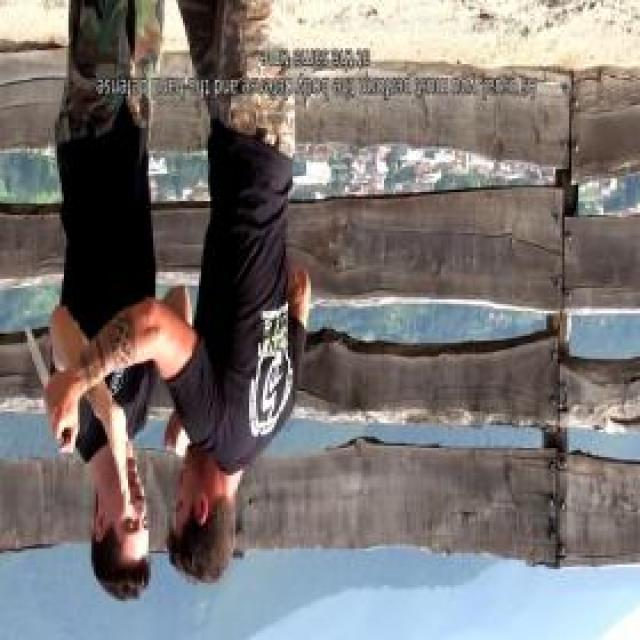knife: (22, 321, 80, 460)
